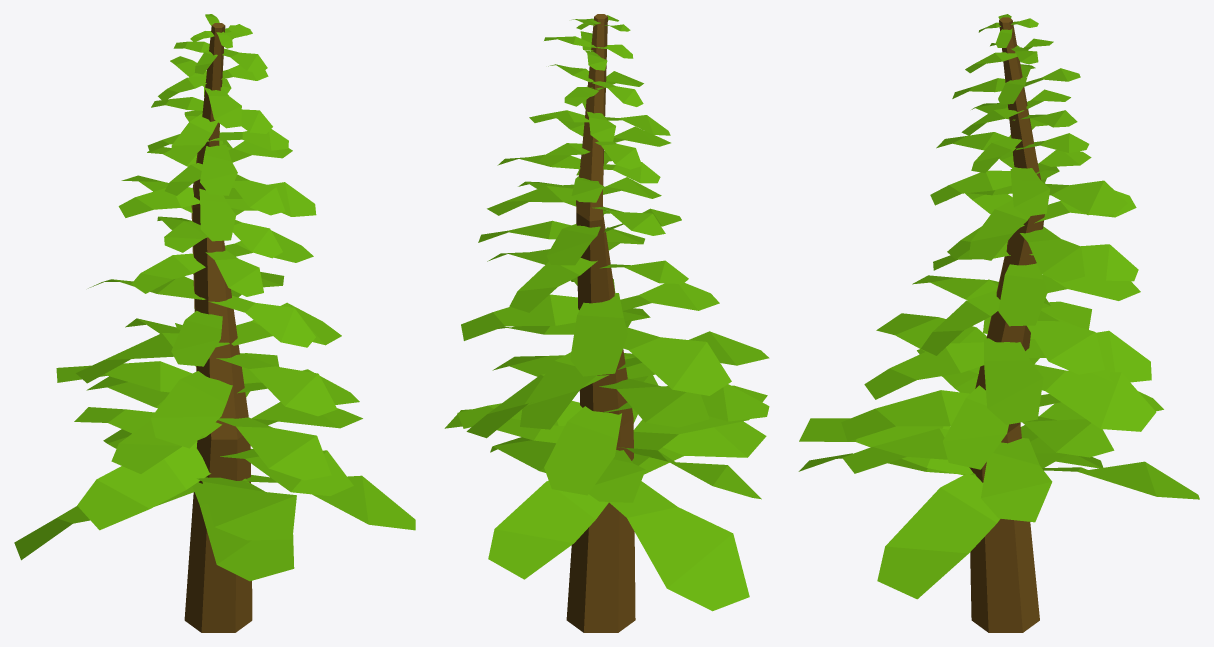
The model's file is Tree3.fbx.
3 views of the same model, side by side, from view 1: azimuth 30°, elevation 25°; view 2: azimuth 150°, elevation 25°; view 3: azimuth 270°, elevation 25° (orthographic).
Visible parts, largest first — view 1: Plane.034; view 2: Plane.034; view 3: Plane.034.
Part boxes in pixels (x1,y1,x2,y2): Plane.034: (14,14,415,632); Plane.034: (444,14,769,632); Plane.034: (798,14,1199,632).
Bounding box in the file's own units: 583 × 1022 × 619.
